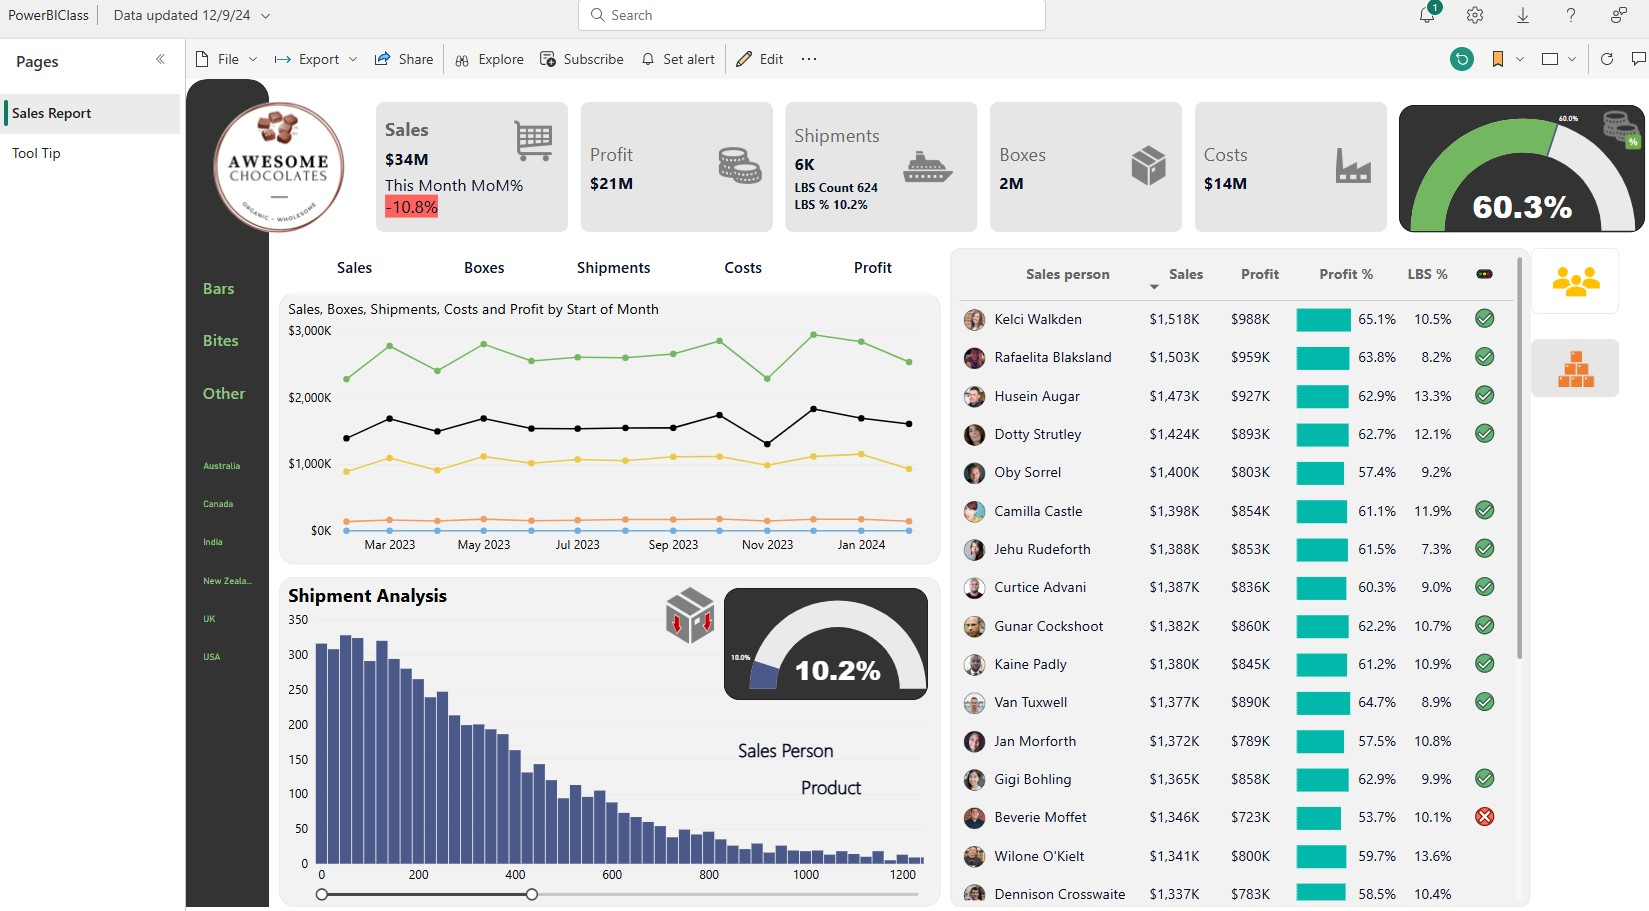

This screenshot's page, from the dashboard's own definition file:
{"tool":"powerbi","page":{"name":"Sales Report","canvas":[1920,1080],"ordinal":0},"visuals":[{"type":"image","title":"Product Icon","box":[1754,339,115,76],"z":0},{"type":"shape","box":[0,0,108.6,1080],"z":1000},{"type":"cardVisual","fields":{"Data":["_Measures.Total Sales","_Measures.Total Profit","_Measures.Total Shipments","_Measures.Total Boxes","_Measures.Total Costs"]},"box":[242.7,25.2,1329.8,180.5],"z":2000},{"type":"gauge","fields":{"Y":["_Measures.Profit %"]},"box":[1582.5,33.8,321.2,166.2],"z":3000},{"type":"lineChart","fields":{"Y":["_Measures.Total Sales","_Measures.Total Boxes","_Measures.Total Shipments","_Measures.Total Costs","_Measures.Total Profit"],"Category":["calendar.Start of Month"]},"box":[121.4,278.6,862.9,354.3],"z":4000},{"type":"advancedSlicerVisual","fields":{"Values":["Measure Selector.Measure Selector"]},"box":[134,205,850,78],"z":5000},{"type":"clusteredColumnChart","title":"Shipment Analysis","fields":{"Category":["shipments.Boxes (bins)"],"Y":["_Measures.Total Shipments"]},"box":[121.4,650,862.9,430],"z":6000},{"type":"gauge","fields":{"Y":["_Measures.LBS %"]},"box":[701.4,664.3,265.7,145.7],"z":7000},{"type":"image","box":[602.9,650,110,100],"z":8000},{"type":"image","box":[907.5,75,120,78.8],"z":9000},{"type":"image","box":[1828.6,30,88.6,72.9],"z":11000},{"type":"tableEx","title":"Product Details","fields":{"Values":["products.Product","_Measures.Total Sales","_Measures.Total Profit","_Measures.Profit %","_Measures.LBS %","_Measures.Profit Target Indicator"]},"box":[996,220,758,860],"z":12000},{"type":"image","title":"People Icon","box":[1754,220,115,86],"z":13000},{"type":"image","box":[0,25.2,242.7,180.5],"z":14000},{"type":"advancedSlicerVisual","fields":{"Values":["products.Category"]},"box":[4.3,234.3,98.6,210],"z":15000},{"type":"advancedSlicerVisual","fields":{"Values":["locations.Geo"]},"box":[11,477,92,307],"z":16000},{"type":"textbox","box":[701,853,164,48],"z":17000},{"type":"textbox","box":[760,901,162,55],"z":18000}]}

Visuals, with their boxes on the page's 1920x1080 design canvas (x1, y1, x2, y2). These are canvas units, not pixel positions in the 1649x911 screenshot, which may show the page scaled, cropped or inside an application window:
"Product Icon" image: pyautogui.locateOnScreen(1754, 339, 1869, 415)
shape: pyautogui.locateOnScreen(0, 0, 109, 1080)
cardVisual - _Measures.Total Sales x _Measures.Total Profit: pyautogui.locateOnScreen(243, 25, 1572, 206)
gauge - _Measures.Profit %: pyautogui.locateOnScreen(1582, 34, 1904, 200)
lineChart - _Measures.Total Sales x _Measures.Total Boxes: pyautogui.locateOnScreen(121, 279, 984, 633)
advancedSlicerVisual - Measure Selector.Measure Selector: pyautogui.locateOnScreen(134, 205, 984, 283)
"Shipment Analysis" clusteredColumnChart: pyautogui.locateOnScreen(121, 650, 984, 1080)
gauge - _Measures.LBS %: pyautogui.locateOnScreen(701, 664, 967, 810)
image: pyautogui.locateOnScreen(603, 650, 713, 750)
image: pyautogui.locateOnScreen(908, 75, 1028, 154)
image: pyautogui.locateOnScreen(1829, 30, 1917, 103)
"Product Details" tableEx: pyautogui.locateOnScreen(996, 220, 1754, 1080)
"People Icon" image: pyautogui.locateOnScreen(1754, 220, 1869, 306)
image: pyautogui.locateOnScreen(0, 25, 243, 206)
advancedSlicerVisual - products.Category: pyautogui.locateOnScreen(4, 234, 103, 444)
advancedSlicerVisual - locations.Geo: pyautogui.locateOnScreen(11, 477, 103, 784)
textbox: pyautogui.locateOnScreen(701, 853, 865, 901)
textbox: pyautogui.locateOnScreen(760, 901, 922, 956)
